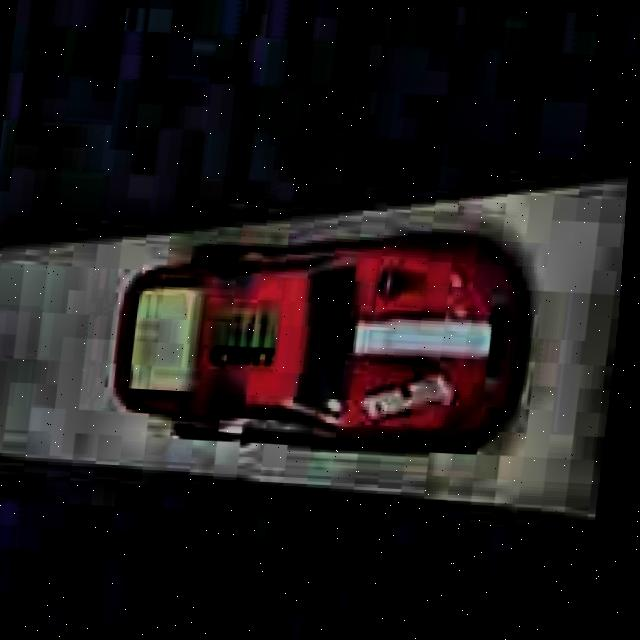car: (92, 210, 548, 467)
